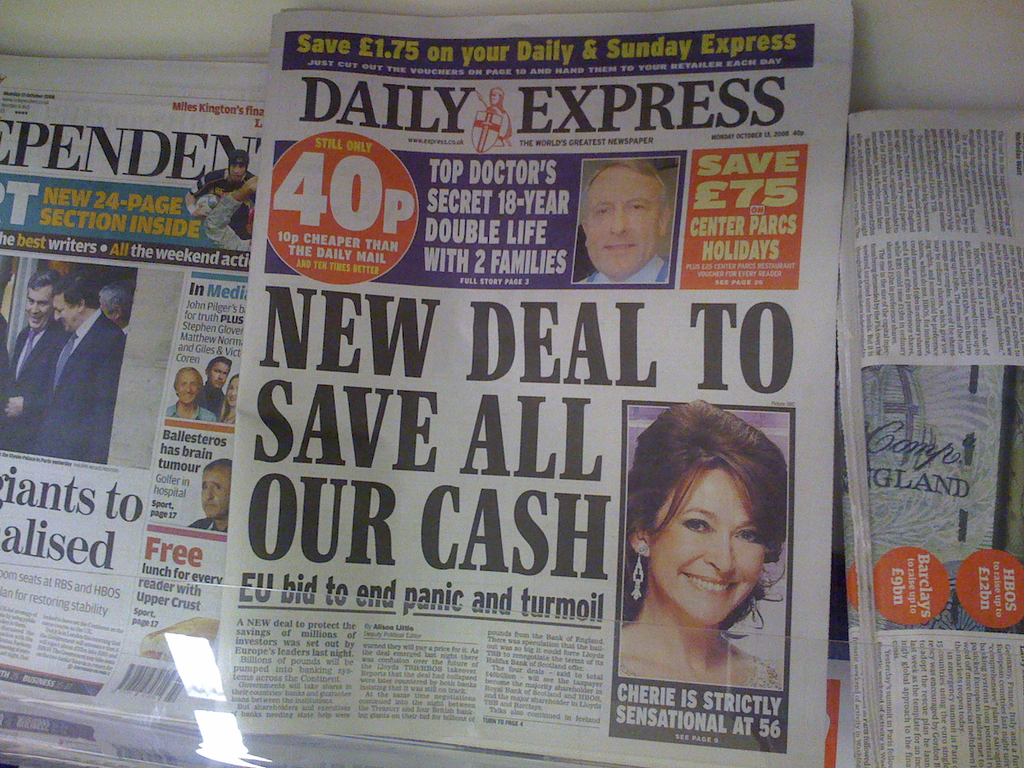Person: (618, 396, 783, 690), (44, 274, 125, 464), (1, 270, 72, 450), (572, 157, 670, 284), (182, 149, 258, 236), (192, 171, 261, 255), (184, 456, 232, 536), (165, 364, 218, 425), (0, 312, 20, 439), (484, 87, 513, 145), (99, 282, 131, 331), (204, 359, 225, 418), (217, 372, 239, 426)
